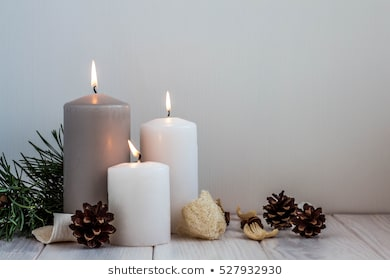Fire: (124, 137, 144, 159), (88, 59, 99, 90), (163, 89, 175, 113)
